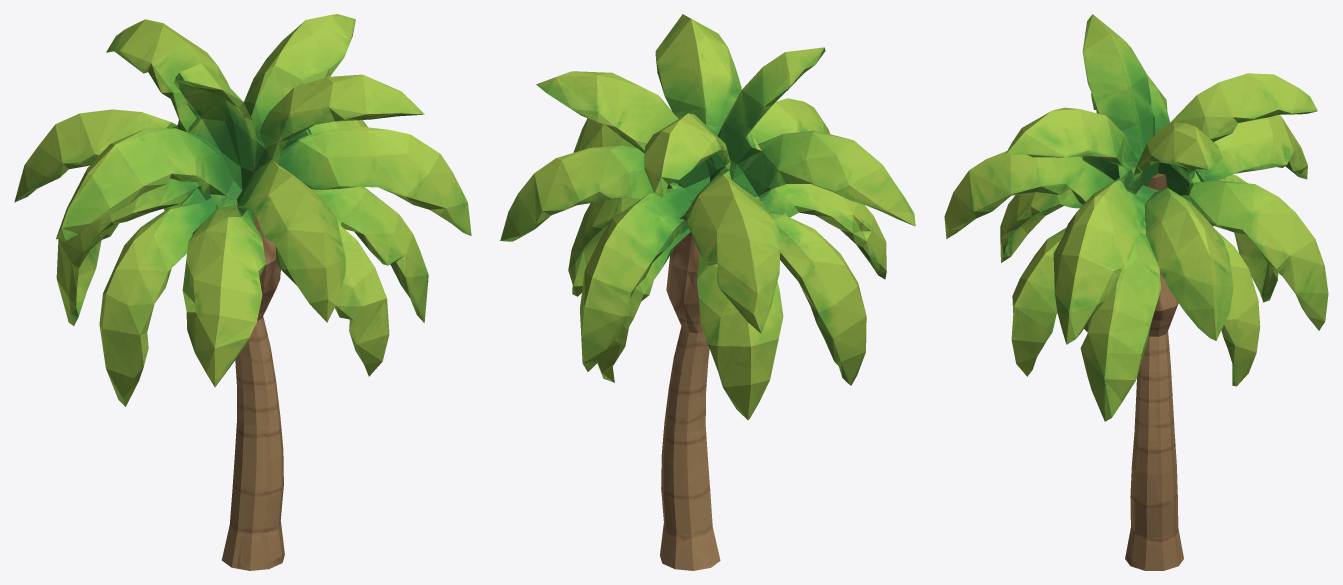
File: palm_c.glb
3 renders of one model, left to right at view 1: azimuth 30°, elevation 25°; view 2: azimuth 150°, elevation 25°; view 3: azimuth 270°, elevation 25°, orthographic. The views are drawn at different scales.
Parts seen in each view (by area): view 1: body; view 2: body; view 3: body.
Boxes of the visible parts, box(x1,y1,x2,y2) form: body: box(14, 14, 471, 570); body: box(500, 14, 915, 570); body: box(944, 14, 1328, 570).
Bounding box in the file's own units: 3.42 × 4.51 × 3.17.
2 materials, 2 textured.
